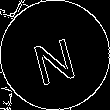N_N: (29, 26, 81, 84)
